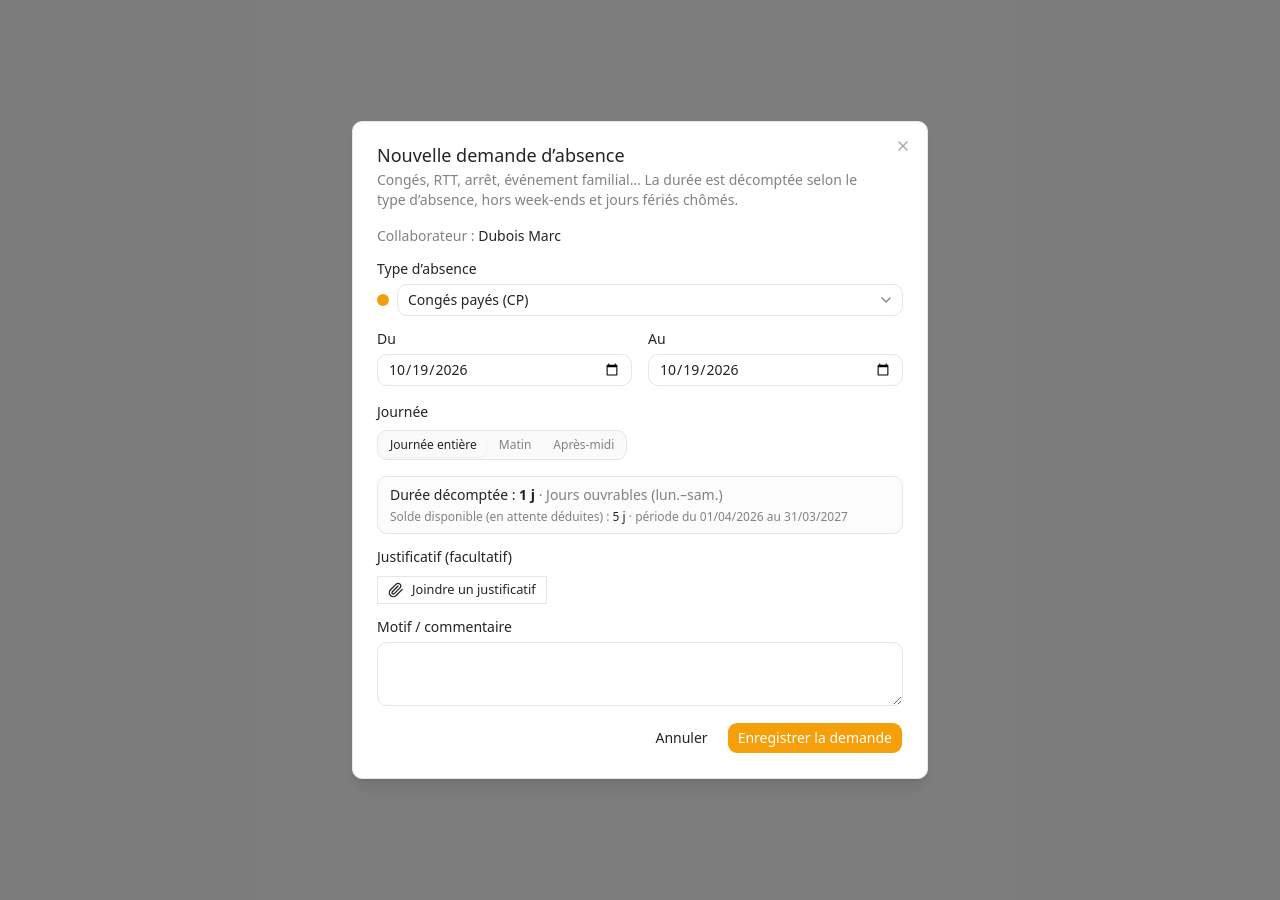
Test: DemandeAbsenceDialog › demi-journée sur un seul jour : le matin vaut 0,5 j
Click the button "Matin" at (515, 445), box [489, 433, 541, 457]
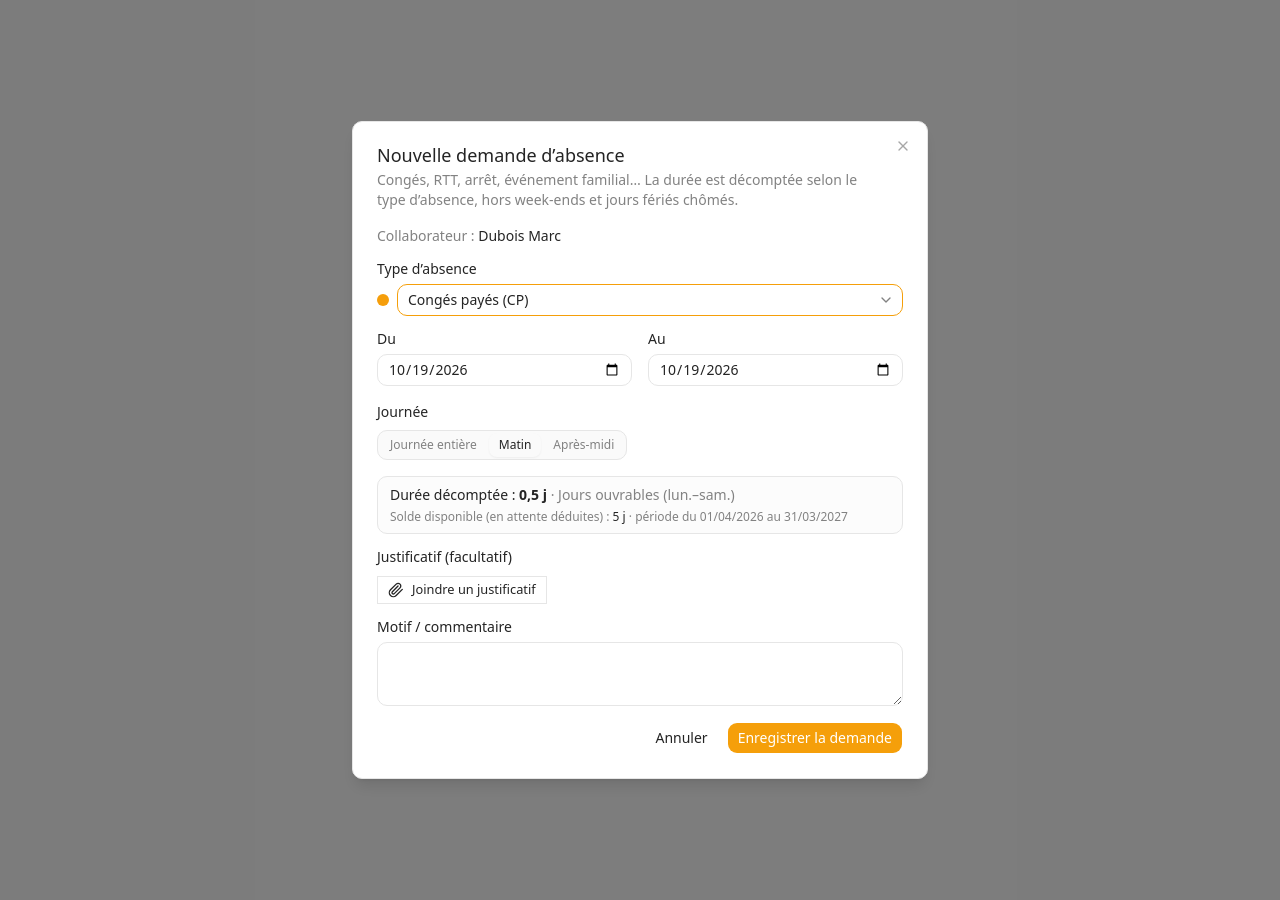
Result: the element with test id "duree-calculee" shows "Durée décomptée : 0,5 j" at [377, 476, 903, 534]
